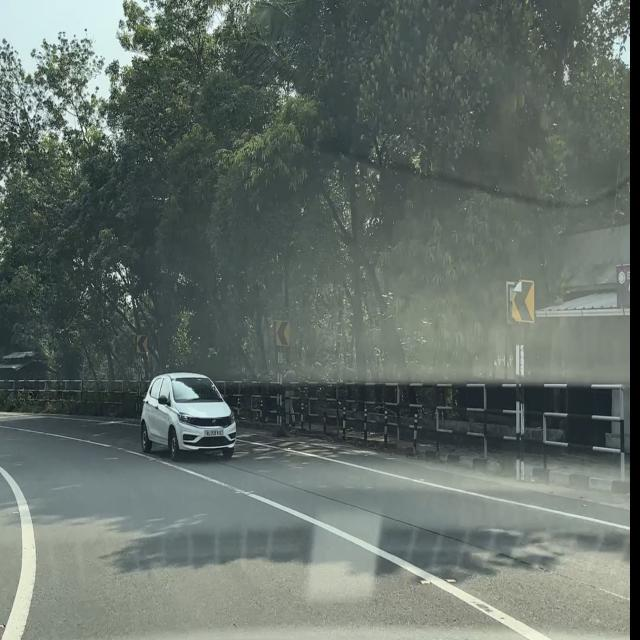TURN_LEFT: (512, 279, 536, 324), (276, 320, 290, 346), (136, 335, 148, 353)
